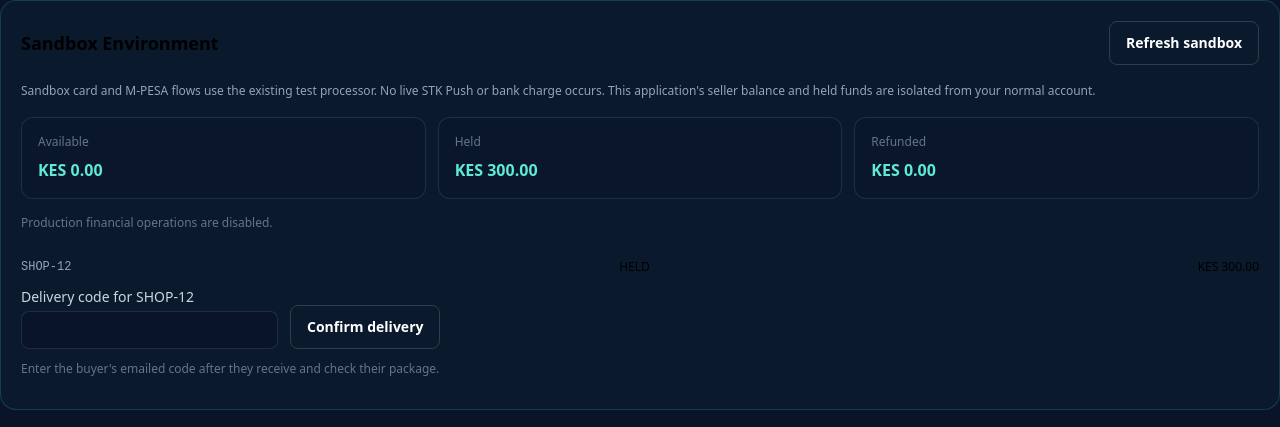
Scenario: redeems a buyer delivery code for an owned held order and refreshes its sandbox balance
Type "12345678" into the field labelled "Delivery code for SHOP-12" at point(150, 330), box [21, 310, 278, 348]
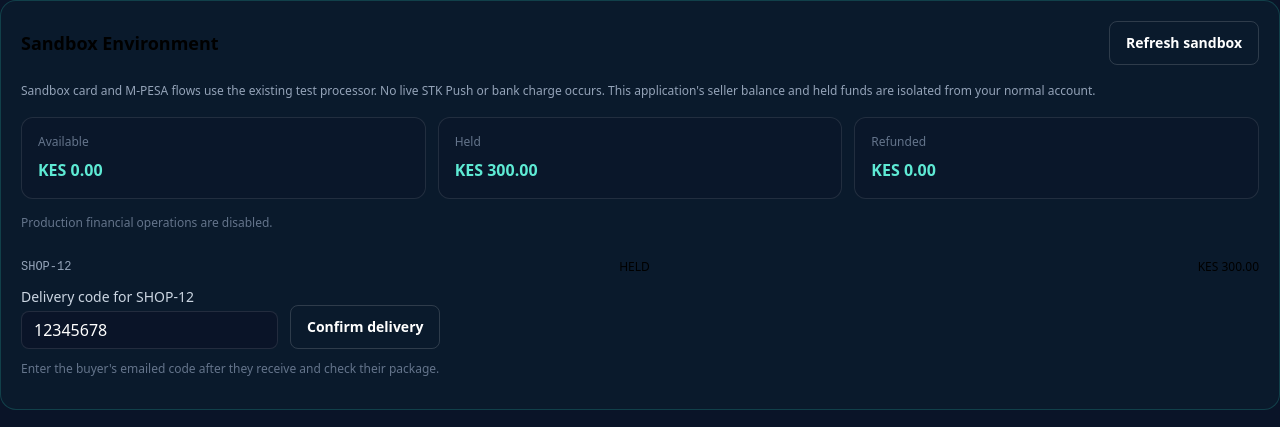
Click the button "Confirm delivery" at point(365, 326), box [290, 304, 440, 348]
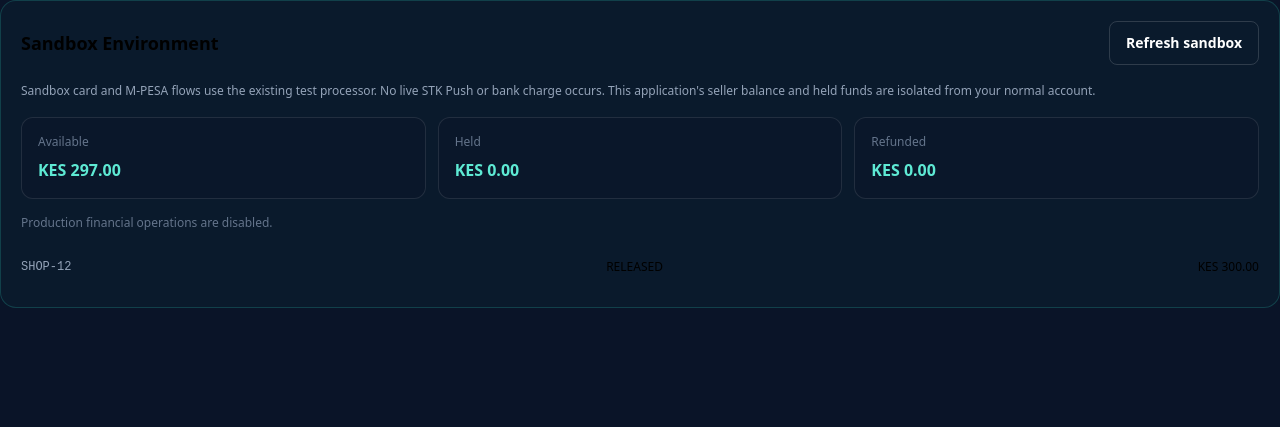
Check: the text "RELEASED" is shown, box [606, 258, 663, 274]
Check: the text "KES 297.00" is shown, box [38, 158, 121, 180]
Check: the text labelled "Delivery code for SHOP-12" is gone
